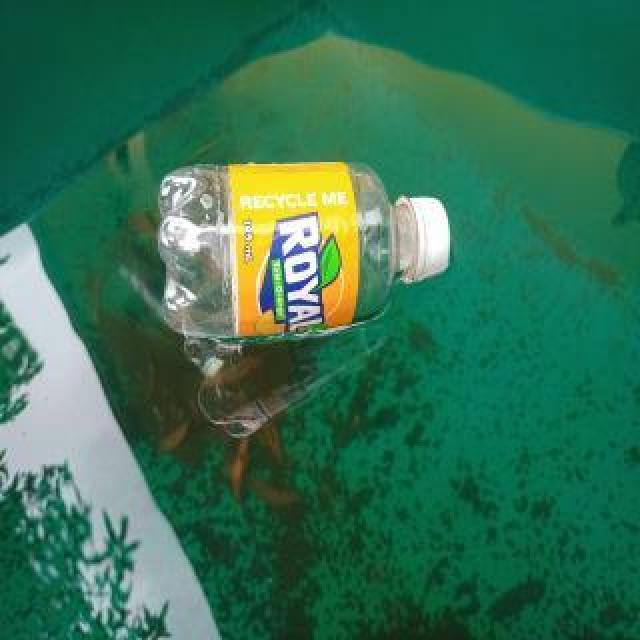bottle: (152, 150, 456, 346)
